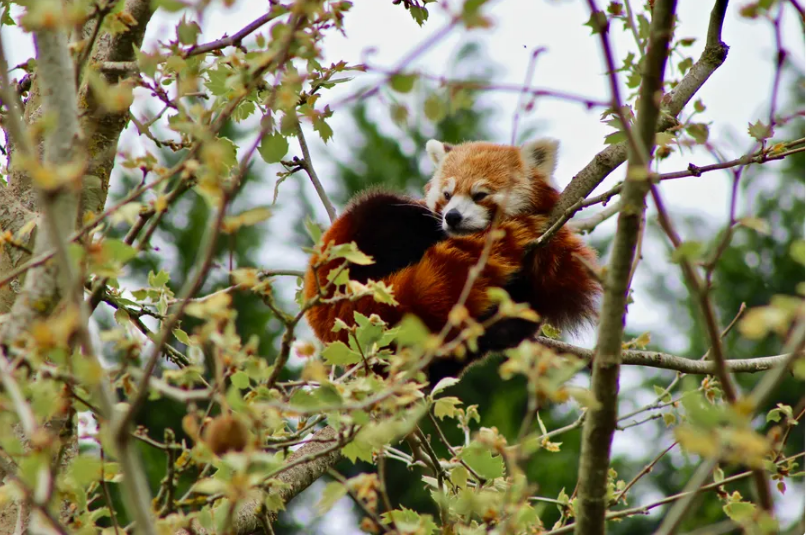red_panda: (318, 134, 595, 329)
